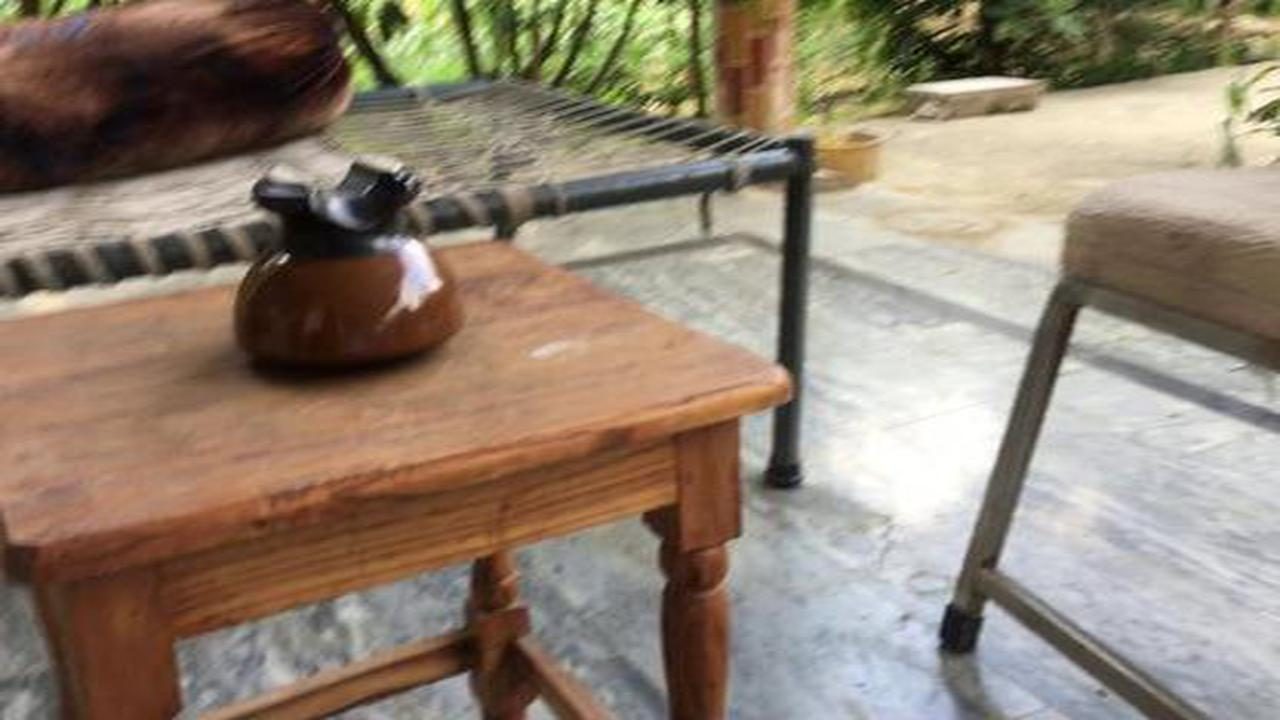insulator_pin: (216, 143, 481, 386)
